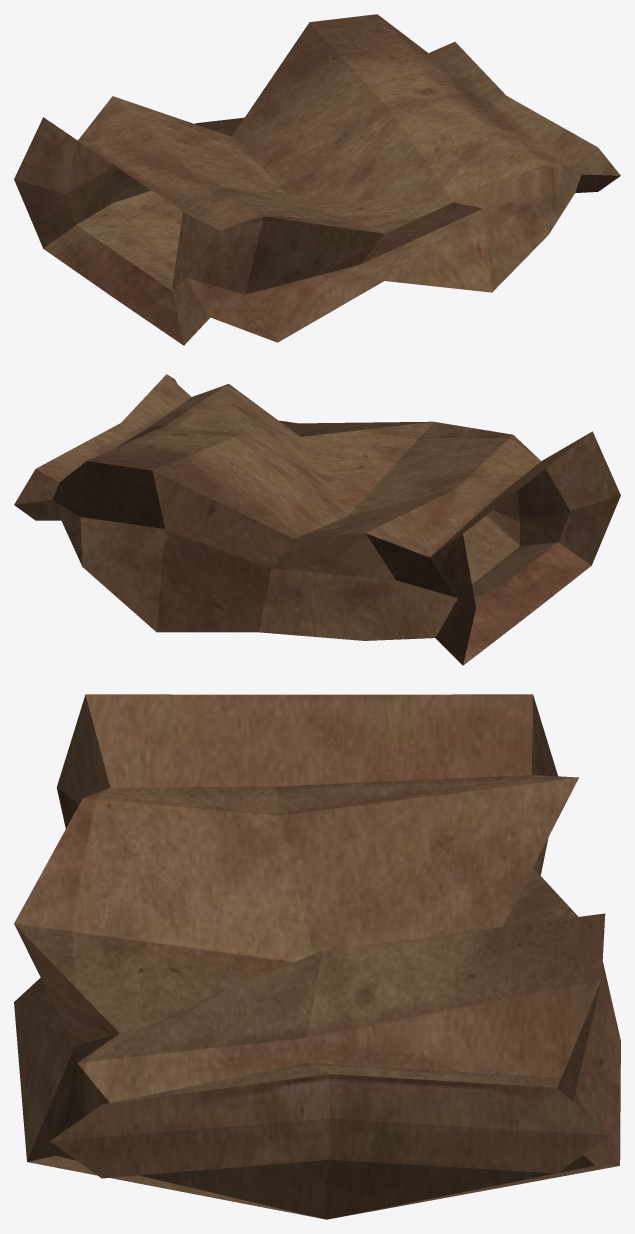
The model's file is papperspase.glb.
3 views of the same model, one above another, from view 1: azimuth 30°, elevation 25°; view 2: azimuth 150°, elevation 25°; view 3: azimuth 270°, elevation 25° (orthographic). The views are drawn at different scales.
Visible parts, largest first — view 1: node_id4; view 2: node_id4; view 3: node_id4.
Part boxes in pixels (x1,y1,x2,y2): node_id4: [14, 14, 620, 345]; node_id4: [14, 374, 620, 665]; node_id4: [14, 694, 620, 1219].
Bounding box in the file's own units: 0.3596 × 0.1181 × 0.2506.
1 material, 1 textured.
